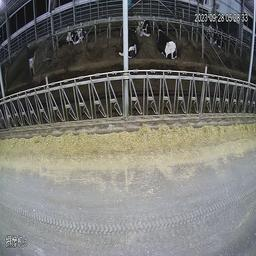cow: (156, 24, 180, 61), (64, 25, 87, 46), (128, 26, 140, 61), (205, 13, 219, 40), (137, 14, 151, 38)
